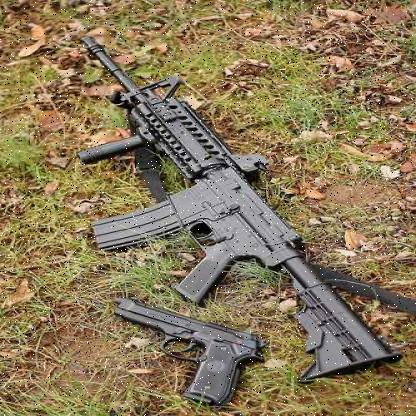rifle: (71, 18, 409, 380)
